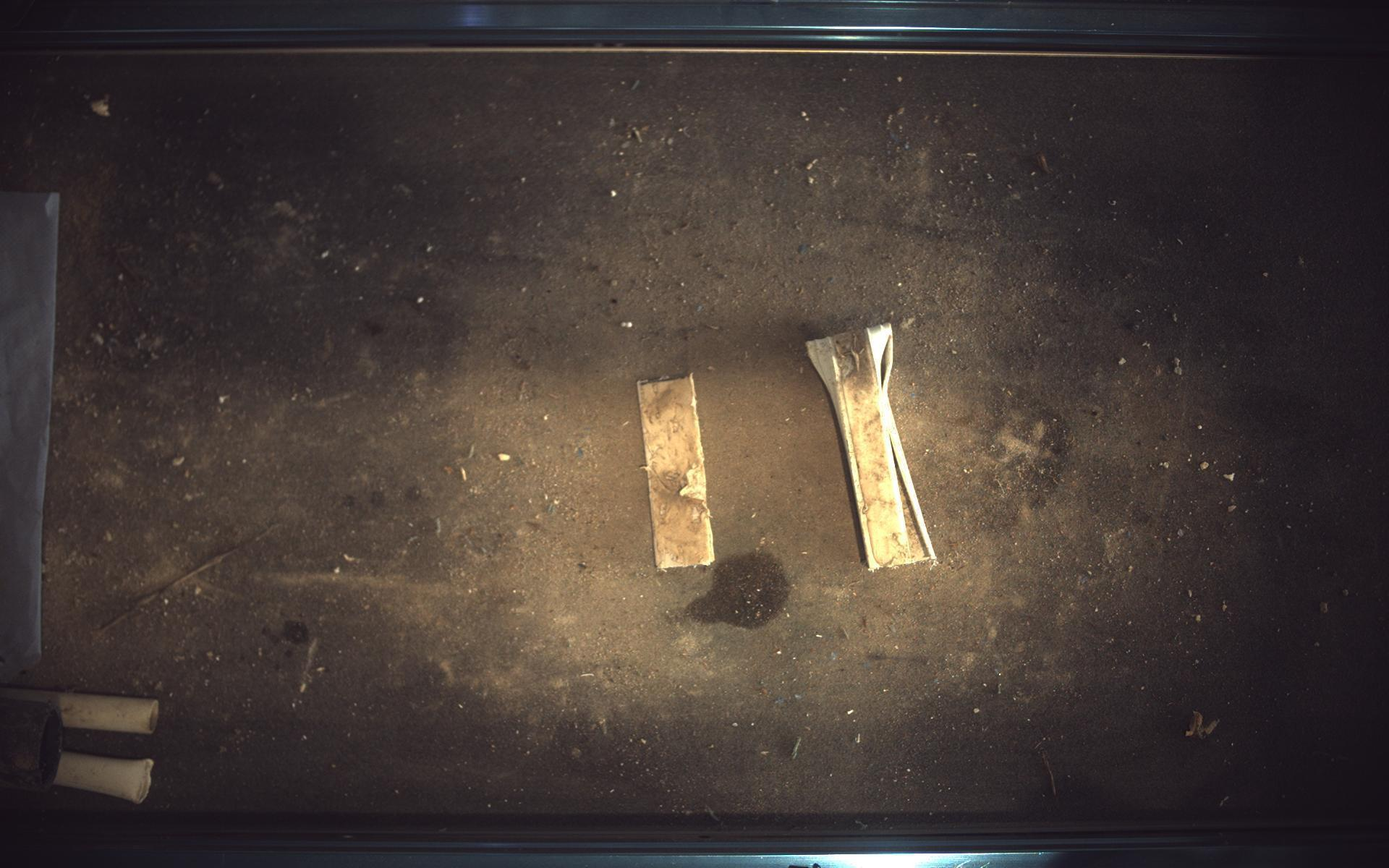plastic: (808, 323, 938, 570), (638, 373, 716, 571)
